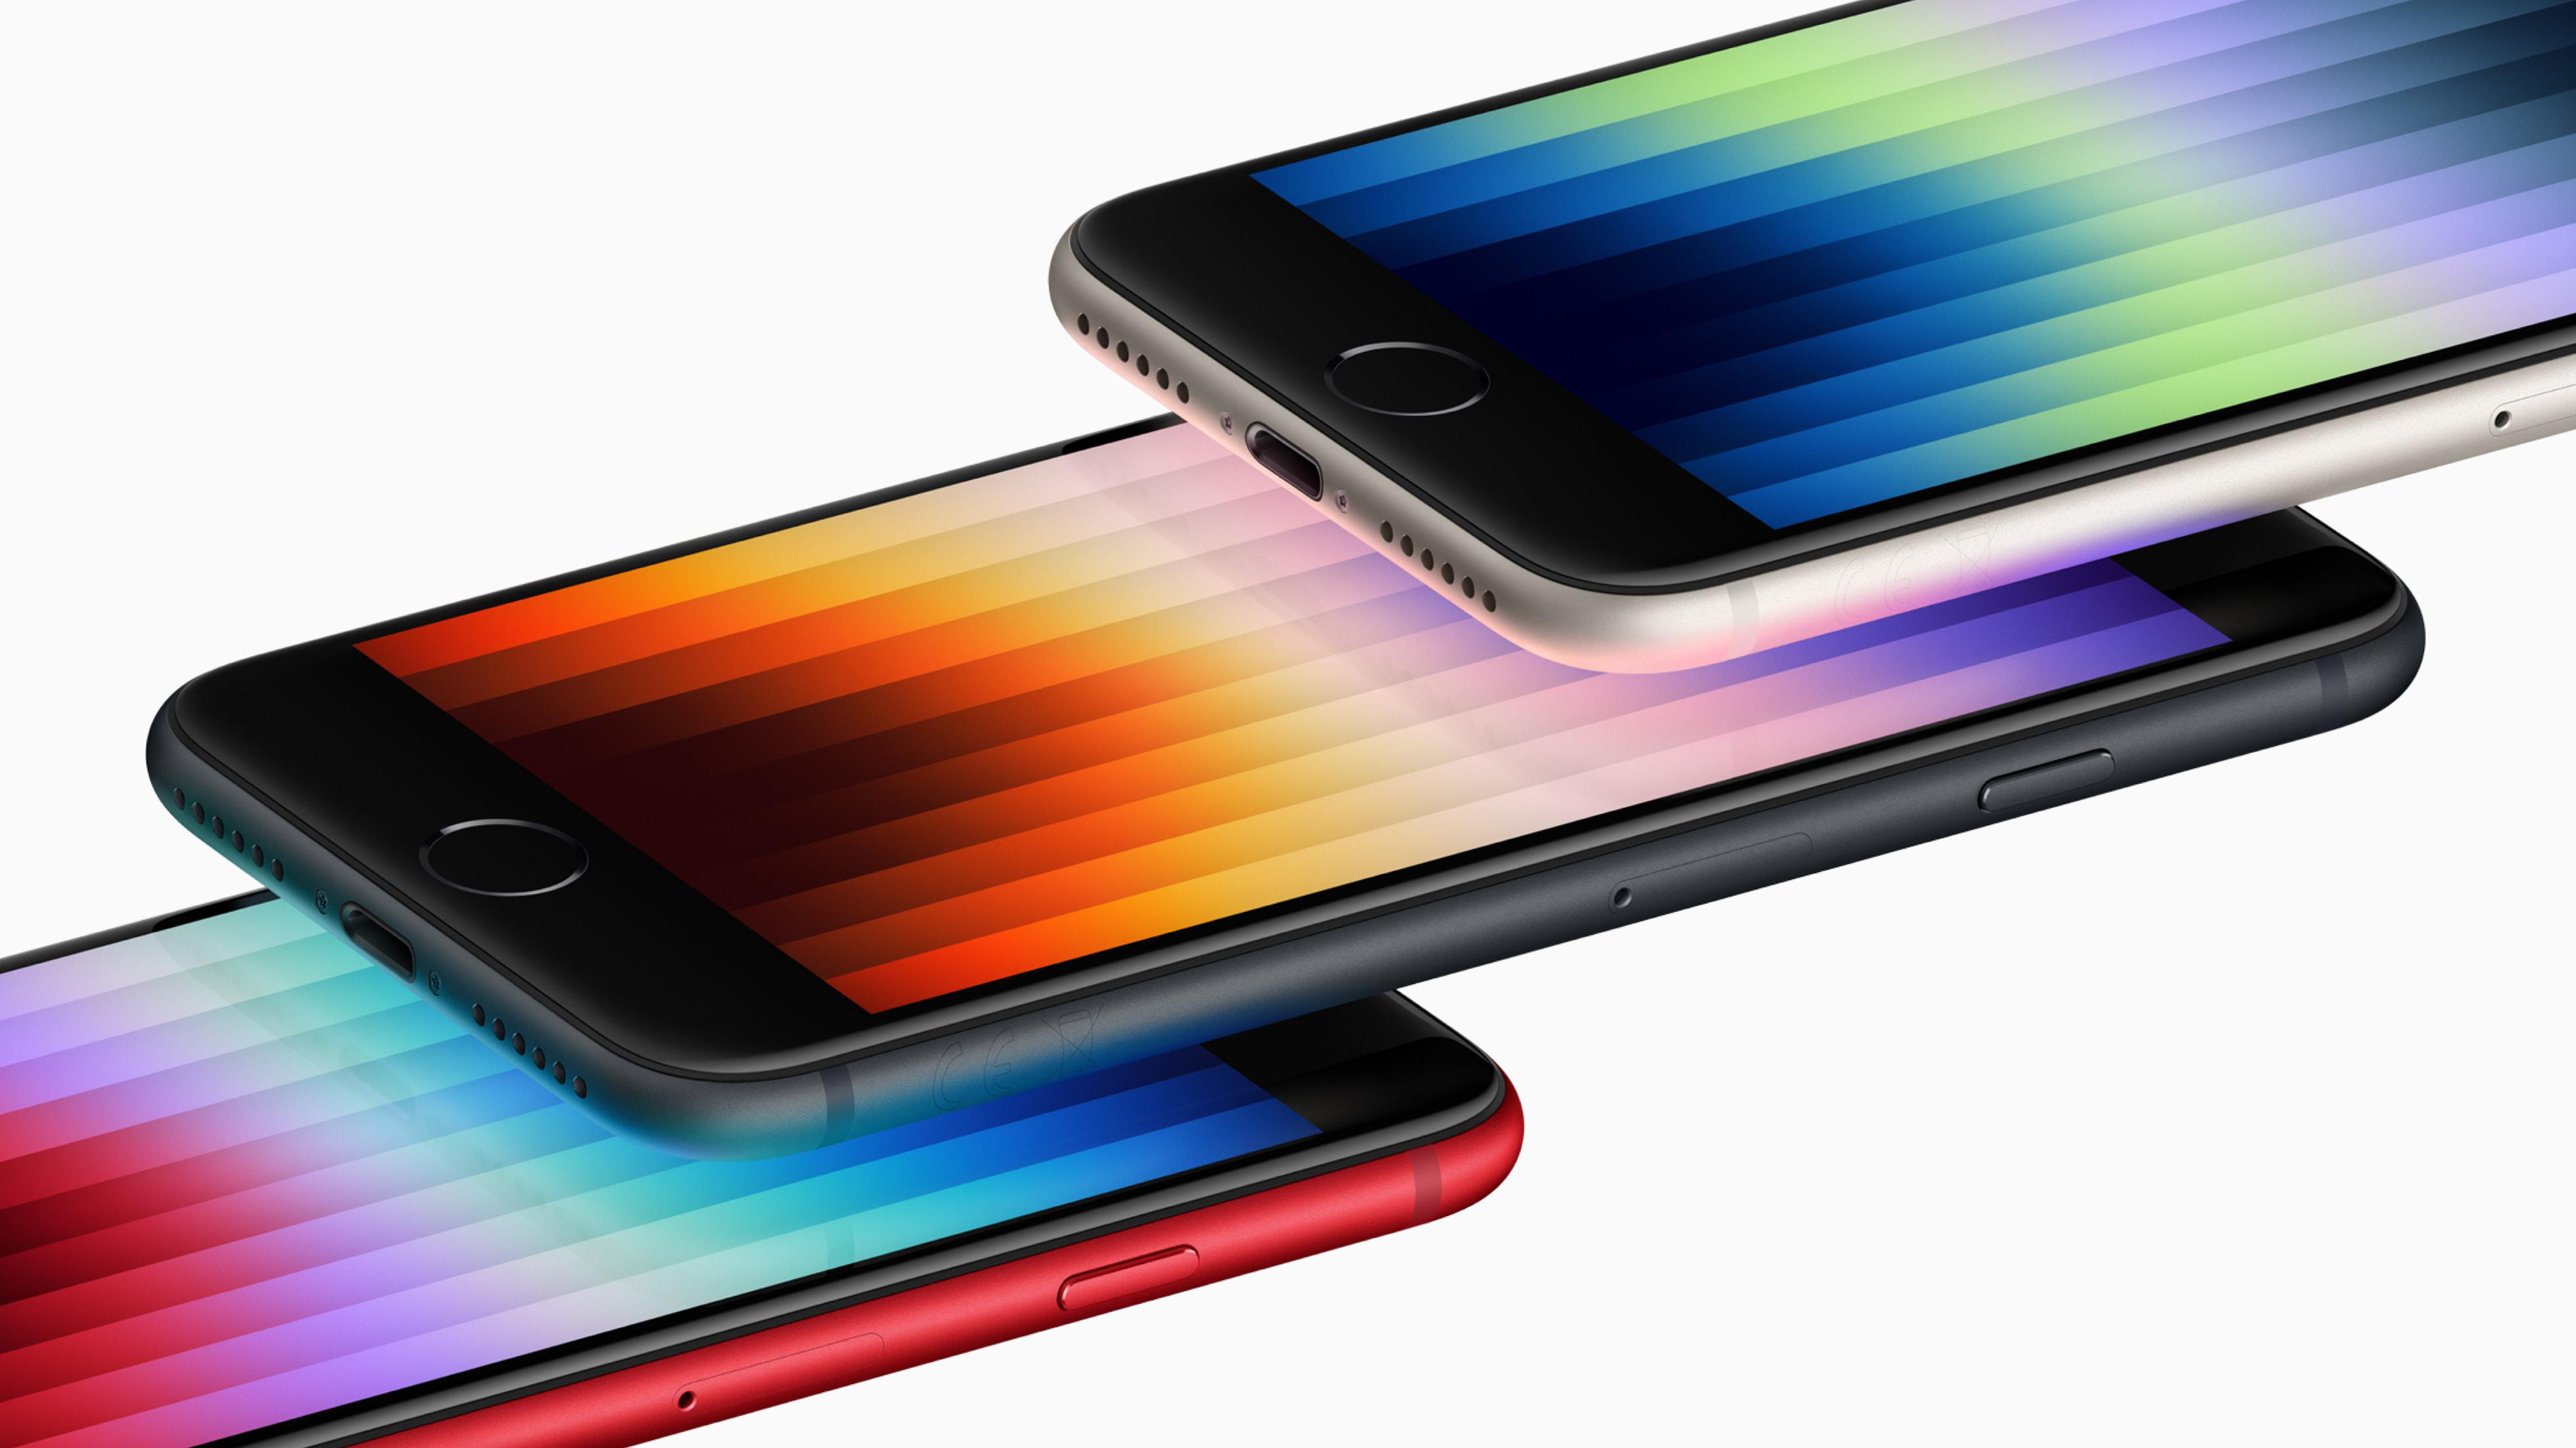Smartphone: (283, 534, 2465, 1082), (4, 914, 1599, 1448), (1079, 0, 2576, 560)
